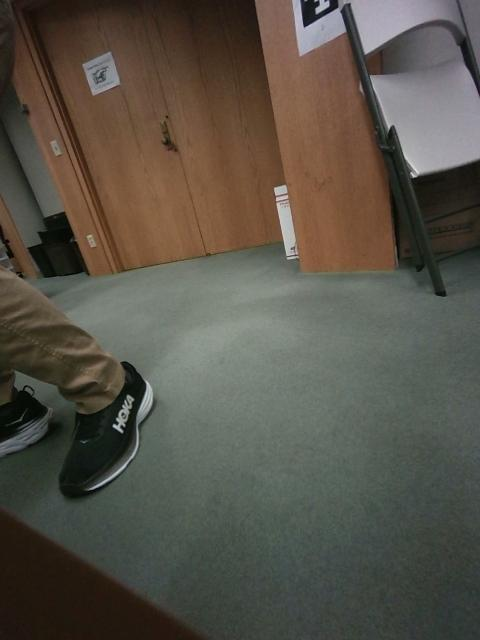block: (425, 291, 467, 365)
